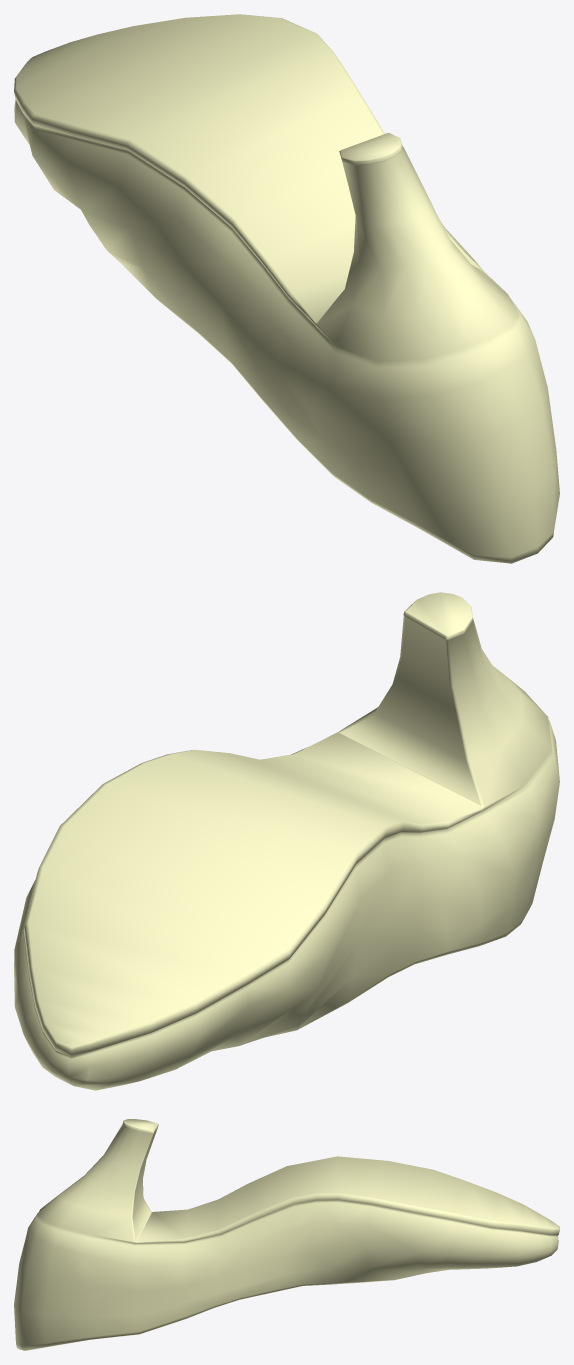
Rendered from shoe1_3.dae.
3 renders of one model, top to bottom at view 1: azimuth 30°, elevation 25°; view 2: azimuth 150°, elevation 25°; view 3: azimuth 270°, elevation 25°, orthographic. The views are drawn at different scales.
Parts seen in each view (by area): view 1: shoe1_019; view 2: shoe1_019; view 3: shoe1_019.
Part boxes in pixels (x1,y1,x2,y2): shoe1_019: [14, 14, 559, 563]; shoe1_019: [14, 592, 559, 1090]; shoe1_019: [14, 1119, 559, 1350].
Size of the model in its own units: 0.1138 by 0.3576 by 0.1548.
